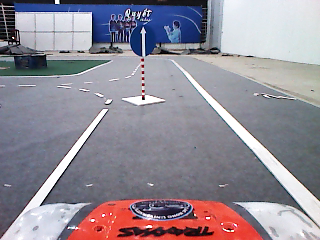straight: (129, 24, 156, 57)
